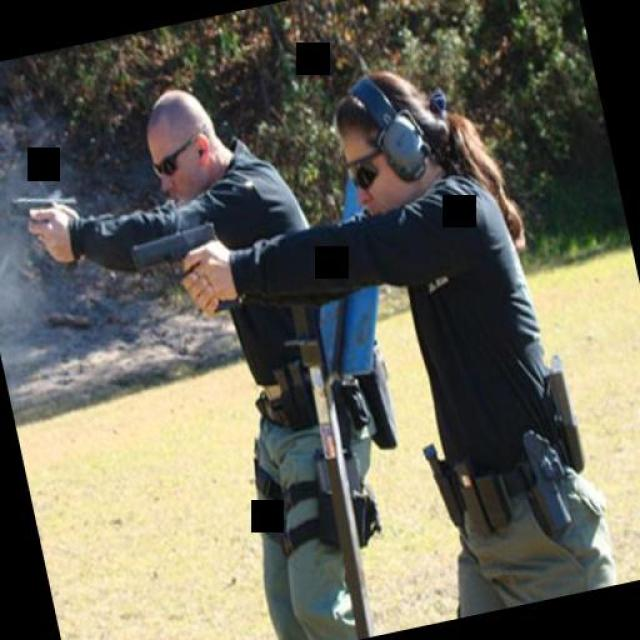gun: (124, 218, 244, 332), (3, 176, 88, 280)
